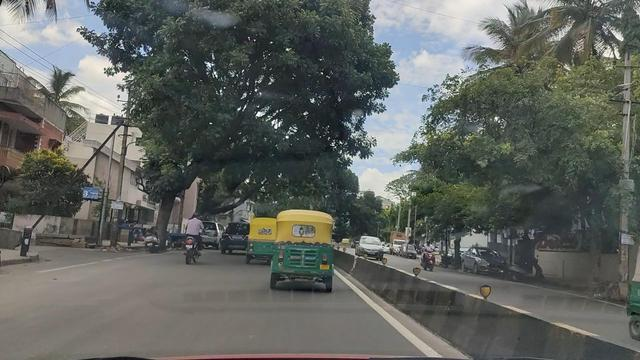LMV: (272, 205, 333, 295), (210, 213, 252, 256), (249, 214, 278, 264), (184, 213, 210, 265)
